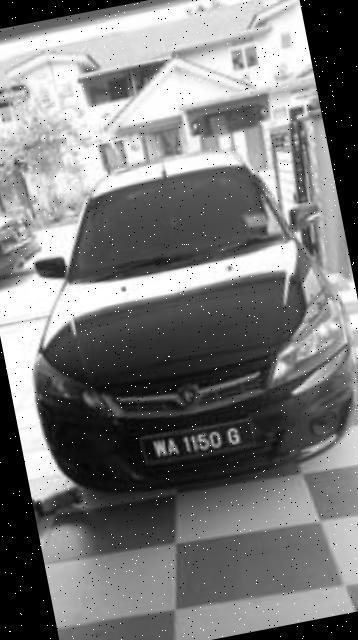License_Plate: (140, 413, 262, 473)
car: (1, 128, 358, 516)
